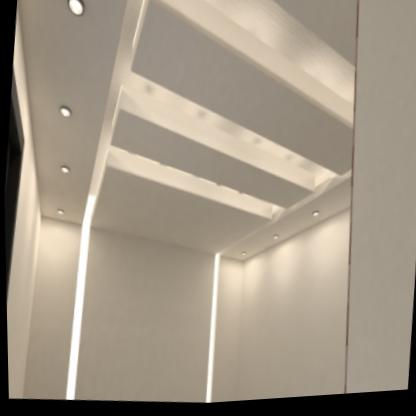Gypsum Board: (0, 0, 416, 297)
